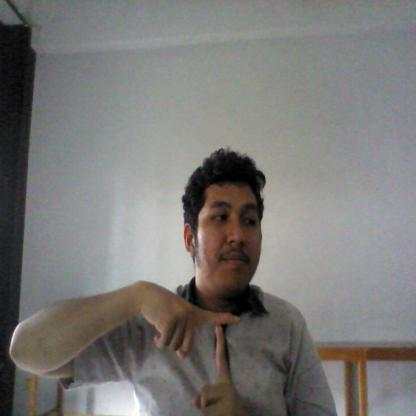T: (138, 282, 242, 416)
